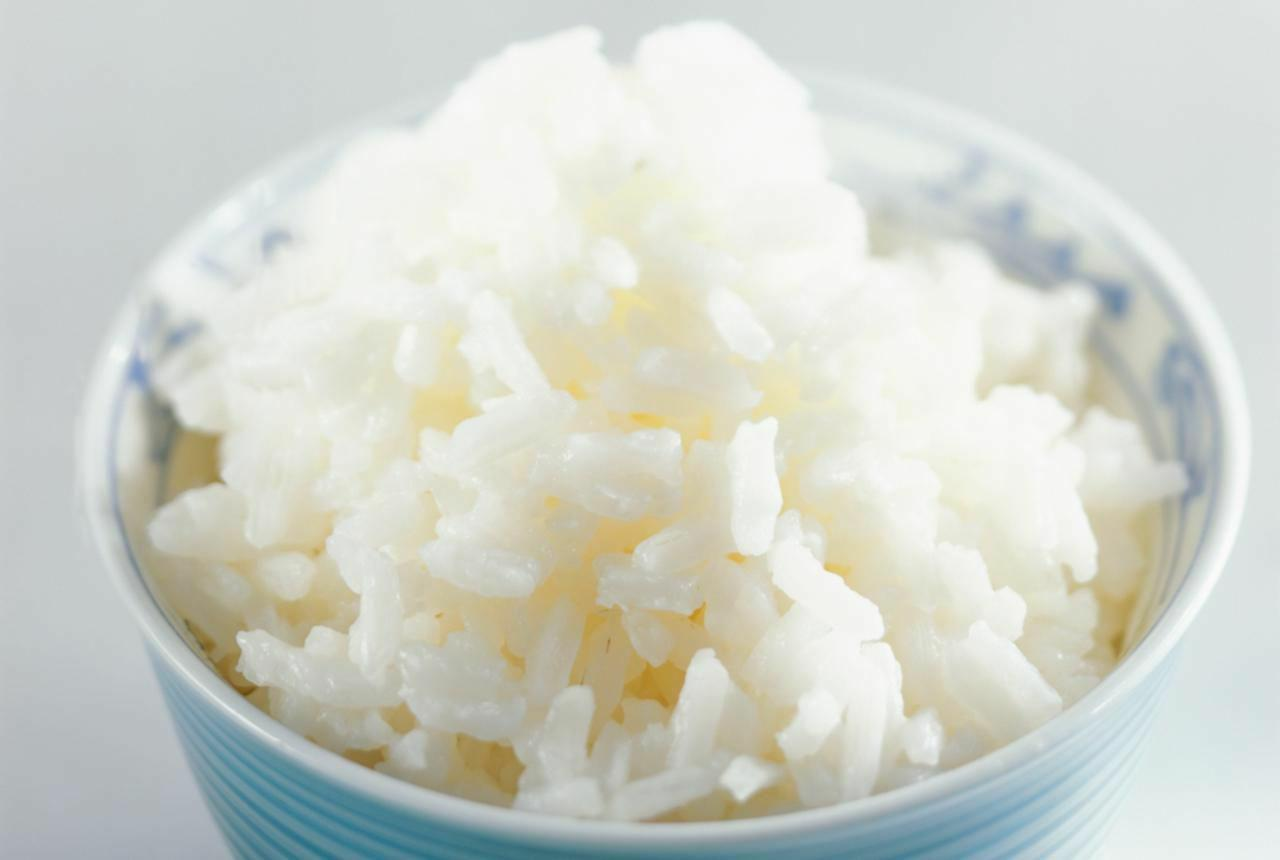WhiteRice: (146, 23, 1193, 821)
